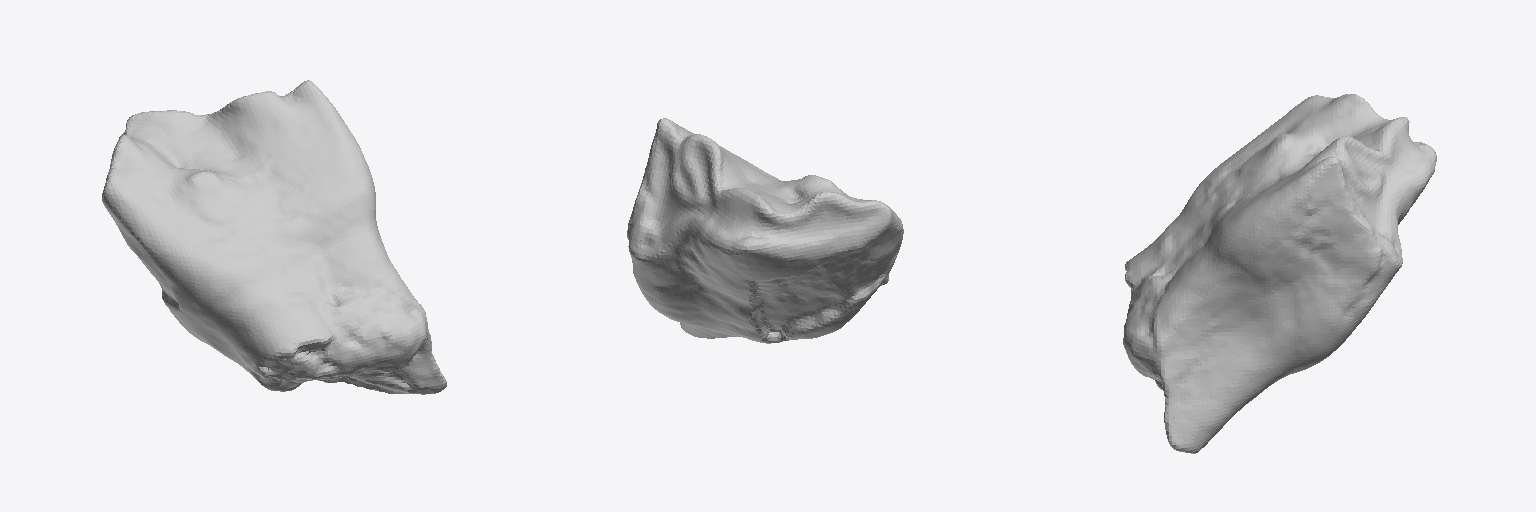
File: MB Bos 21 P34.obj
3 views of the same model, side by side, from view 1: azimuth 30°, elevation 25°; view 2: azimuth 150°, elevation 25°; view 3: azimuth 270°, elevation 25° (orthographic).
Bounding box in the file's own units: 24.43 × 23.21 × 24.08.